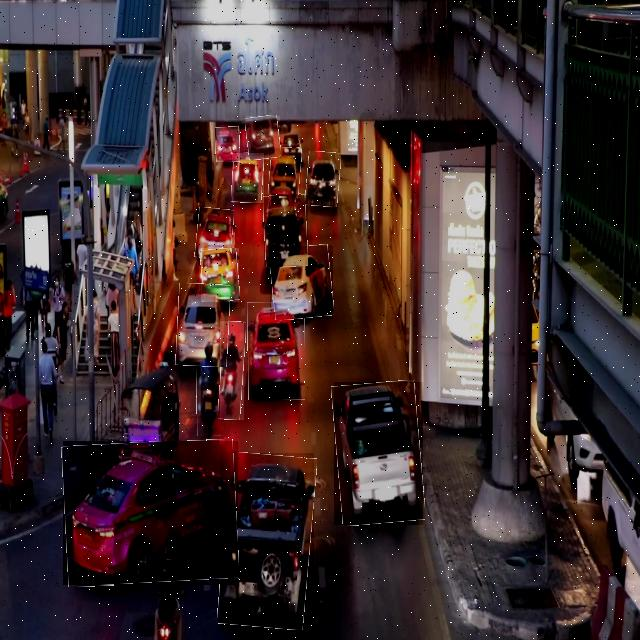Car: (63, 442, 238, 586), (248, 302, 305, 400), (270, 246, 333, 319), (176, 284, 229, 367), (264, 195, 308, 266), (201, 248, 239, 302), (306, 152, 341, 207), (196, 208, 233, 260), (269, 148, 301, 198), (232, 153, 264, 203), (247, 116, 280, 160), (216, 127, 240, 162)
Motorcycle: (146, 540, 182, 640), (197, 336, 221, 436), (220, 321, 244, 420)
Truck: (220, 453, 314, 629), (334, 382, 423, 525)
